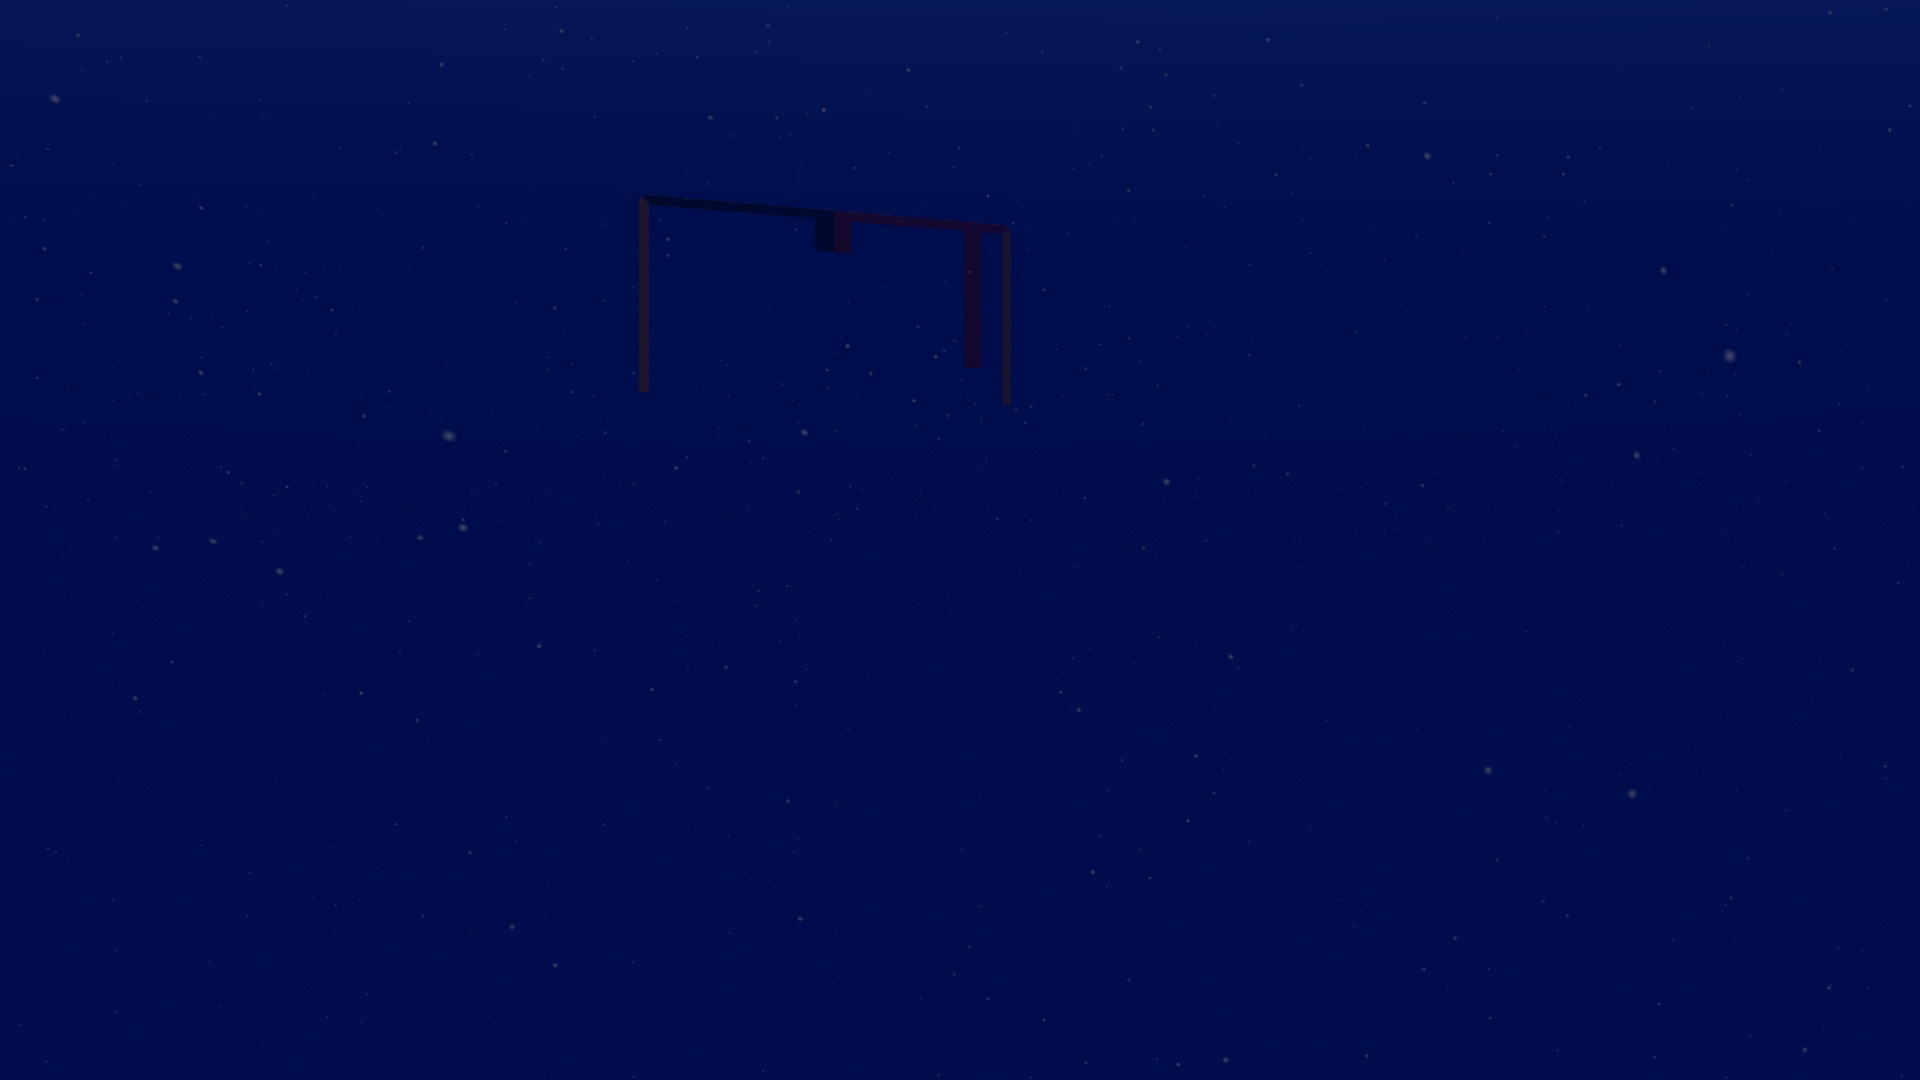Gate: (632, 183, 1019, 422)
